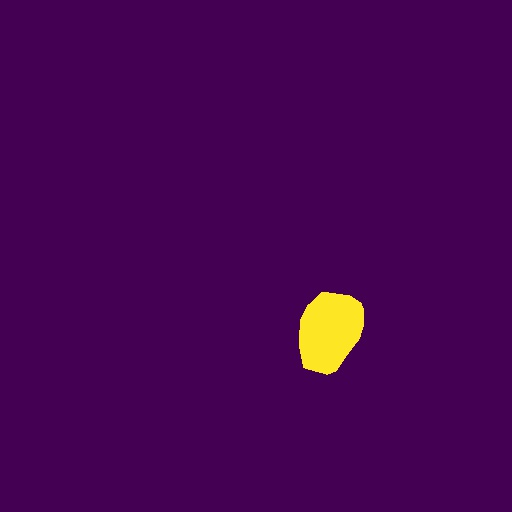Gliomia_tumour: (299, 292, 364, 375)
